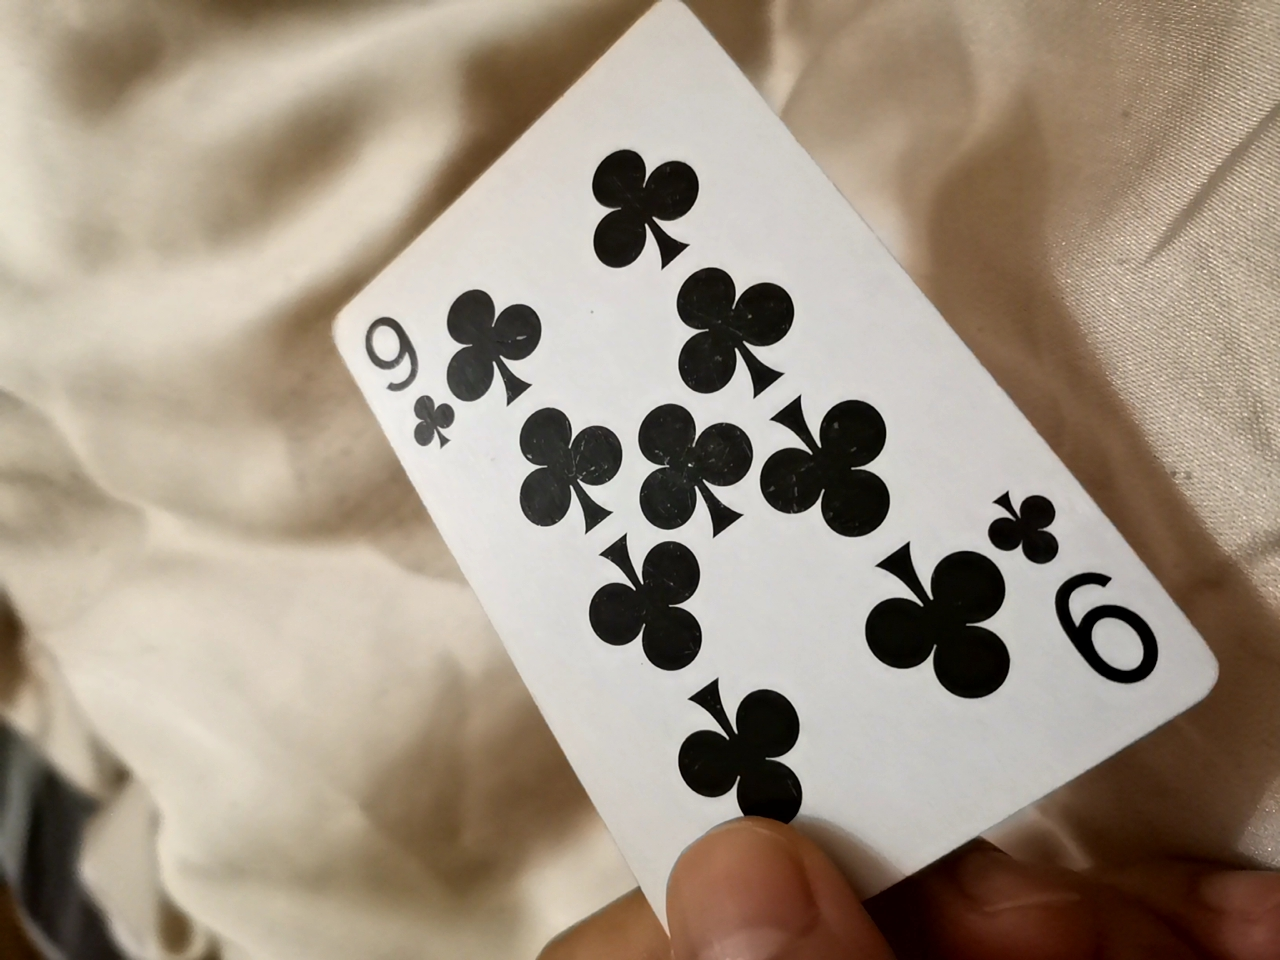mh 9: (284, 2, 1199, 933)
